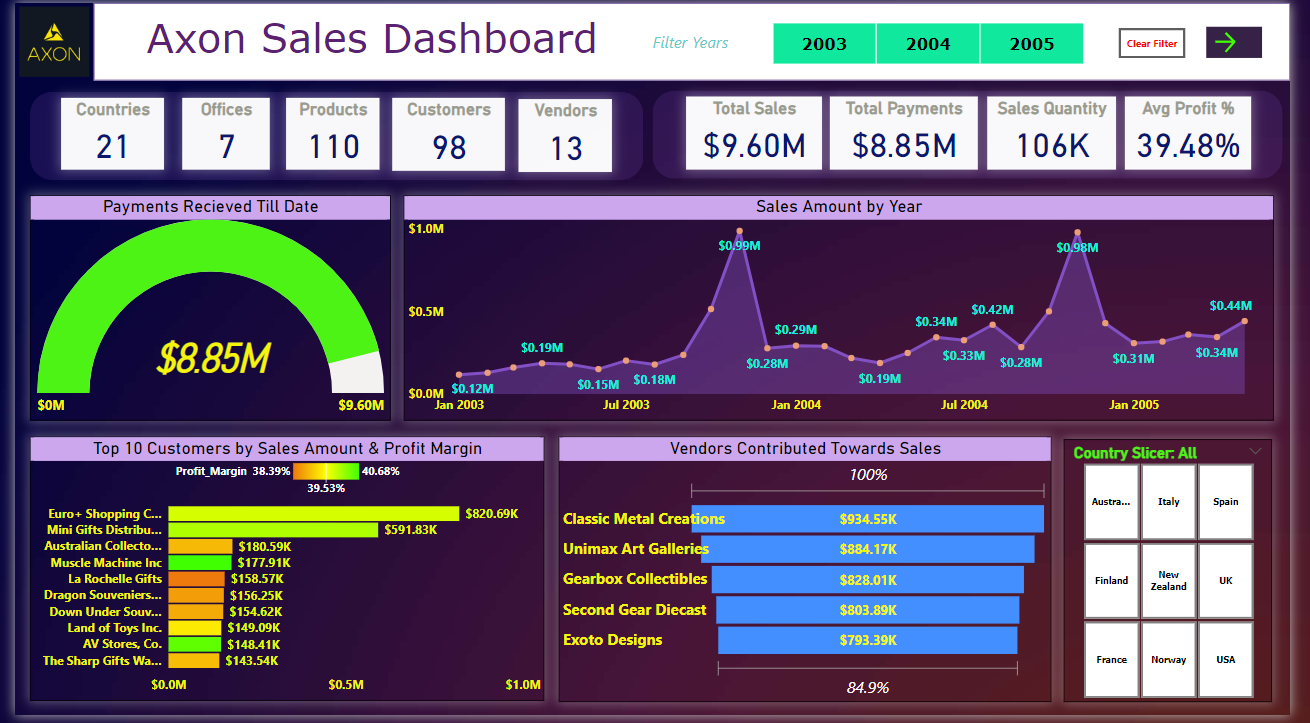

The dashboard page shown, as its layout file describes it:
{"tool":"powerbi","page":{"name":"Main","canvas":[1700,950],"ordinal":0},"visuals":[{"type":"shape","box":[19.4,117.7,817.7,117.7],"z":0},{"type":"shape","box":[850,116.1,840.3,117.7],"z":1000},{"type":"shape","box":[104.8,0,1595.2,103.2],"z":2000},{"type":"card","title":"Countries","fields":{"Values":["Count(classicmodels customers.country)"]},"box":[62.4,127.4,137.1,95.2],"z":3000},{"type":"textbox","box":[114.5,8.1,722.6,79],"z":4000},{"type":"card","title":"Total Sales","fields":{"Values":["Base_Measures.Revenue"]},"box":[895.5,125.8,180.6,96.8],"z":5000},{"type":"gauge","title":"Payments Recieved Till Date","fields":{"MaxValue":["Base_Measures.billAmount"],"Y":["Sum(classicmodels payments.amount)"]},"box":[19.4,256.5,480.6,300],"z":6000},{"type":"card","title":"Sales Quantity","fields":{"Values":["Base_Measures.Sales_Qty"]},"box":[1296.8,125.8,171,96.8],"z":7000},{"type":"barChart","title":"Top 10 Customers by Sales Amount & Profit Margin ","fields":{"Y":["Base_Measures.billAmount"],"Category":["classicmodels customers.customerName"]},"box":[19.4,579,685.5,351.6],"z":8000},{"type":"slicer","title":"Year","fields":{"Values":["DATES.Date.Variation.Date Hierarchy.Year"]},"box":[985.5,19.4,462.9,67.7],"z":9000},{"type":"card","title":"Total Payments","fields":{"Values":["Sum(classicmodels payments.amount)"]},"box":[1087.1,125.8,196.8,96.8],"z":10000},{"type":"card","title":"Offices","fields":{"Values":["Count(classicmodels offices.officeCode)"]},"box":[223.7,127.4,116.1,95.2],"z":11000},{"type":"card","title":"Products","fields":{"Values":["Count(classicmodels products.productCode)"]},"box":[362.4,127.4,124.2,95.2],"z":12000},{"type":"card","title":"Customers","fields":{"Values":["Count(classicmodels customers.customerNumber)"]},"box":[502.8,127.3,149.6,97.1],"z":13000},{"type":"areaChart","title":"Sales Amount by Year","fields":{"Category":["DATES.Date.Variation.Date Hierarchy.Year","DATES.Date.Variation.Date Hierarchy.Quarter","DATES.Date.Variation.Date Hierarchy.Month","DATES.Date.Variation.Date Hierarchy.Day"],"Y":["Base_Measures.Total_Sales"]},"box":[517.7,256.5,1159.7,300],"z":14000},{"type":"card","title":"Avg Profit %","fields":{"Values":["Avg(classicmodels orderdetails.SPP)"]},"box":[1480,125.8,167.7,96.8],"z":15000},{"type":"funnel","title":"Vendors Contributed Towards Sales","fields":{"Category":["classicmodels products.productVendor"],"Y":["Base_Measures.Order_Value"]},"box":[725.8,579,656.5,353.2],"z":16000},{"type":"slicer","title":"Country","fields":{"Values":["classicmodels customers.country"]},"box":[1398.8,581.3,277.9,350.6],"z":17000},{"type":"card","title":"Vendors","fields":{"Values":["Count(classicmodels products.productVendor)"]},"box":[672.1,129,124.2,96.8],"z":18000},{"type":"image","box":[0,0,104.8,103.2],"z":19000},{"type":"actionButton","box":[1588.1,31.8,74.8,41.4],"z":20000},{"type":"actionButton","box":[1471,33.9,88.7,40.3],"z":21000},{"type":"textbox","box":[837.1,32.3,127.4,43.5],"z":22000}]}

Visuals, with their boxes in screenshot pixels (x1, y1, x2, y2), scaled from the page's 1700x950 canvas onto the 1310x723 screenshot:
shape: 15, 90, 645, 179
shape: 655, 88, 1303, 178
shape: 81, 0, 1309, 79
"Countries" card: 48, 97, 154, 169
textbox: 88, 6, 645, 66
"Total Sales" card: 690, 96, 829, 169
"Payments Recieved Till Date" gauge: 15, 195, 385, 424
"Sales Quantity" card: 999, 96, 1131, 169
"Top 10 Customers by Sales Amount & Profit Margin " barChart: 15, 441, 543, 708
"Year" slicer: 759, 15, 1116, 66
"Total Payments" card: 838, 96, 989, 169
"Offices" card: 172, 97, 262, 169
"Products" card: 279, 97, 375, 169
"Customers" card: 387, 97, 503, 171
"Sales Amount by Year" areaChart: 399, 195, 1293, 424
"Avg Profit %" card: 1140, 96, 1270, 169
"Vendors Contributed Towards Sales" funnel: 559, 441, 1065, 709
"Country" slicer: 1078, 442, 1292, 709
"Vendors" card: 518, 98, 614, 172
image: 0, 0, 81, 79
actionButton: 1224, 24, 1281, 56
actionButton: 1134, 26, 1202, 56
textbox: 645, 25, 743, 58
